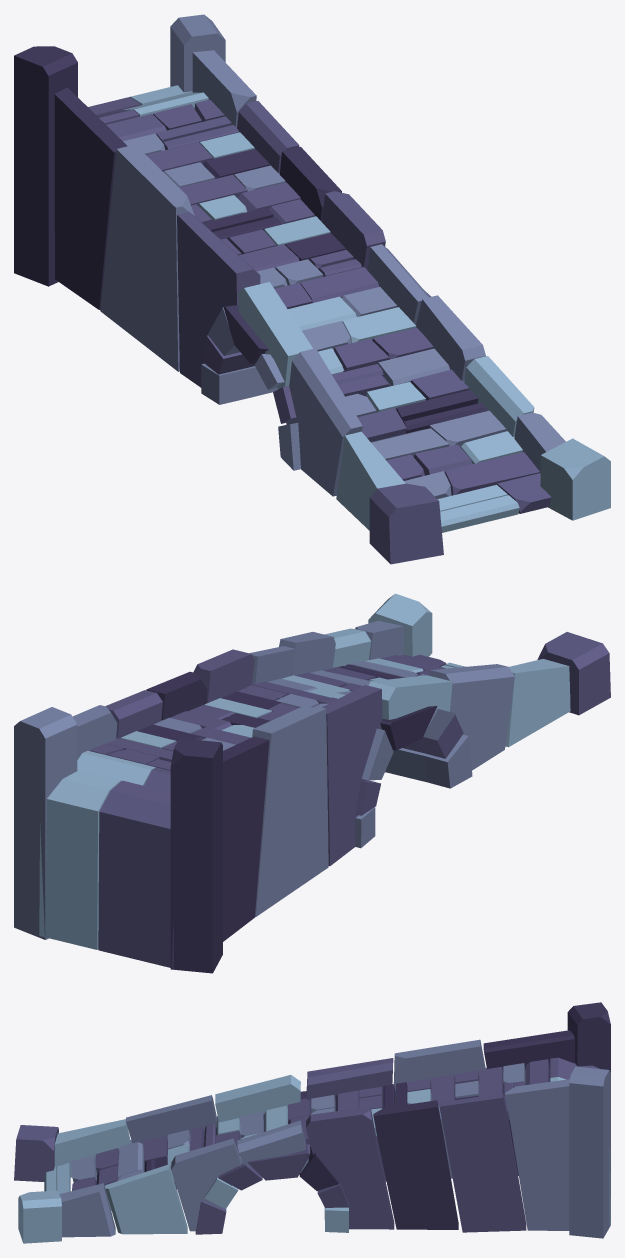
File: Bridge 01.fbx
The picture shows the model from 3 angles, top to bottom: view 1: azimuth 30°, elevation 25°; view 2: azimuth 150°, elevation 25°; view 3: azimuth 270°, elevation 25°; orthographic projection. The views are drawn at different scales.
Visible parts, largest first — view 1: Bridge 01; view 2: Bridge 01; view 3: Bridge 01.
Boxes of the visible parts, x1,y1,x2,y2 form: Bridge 01: (14, 14, 610, 564); Bridge 01: (14, 593, 610, 973); Bridge 01: (14, 1002, 610, 1243).
Size of the model in its own units: 1820 by 1729 by 5645.
